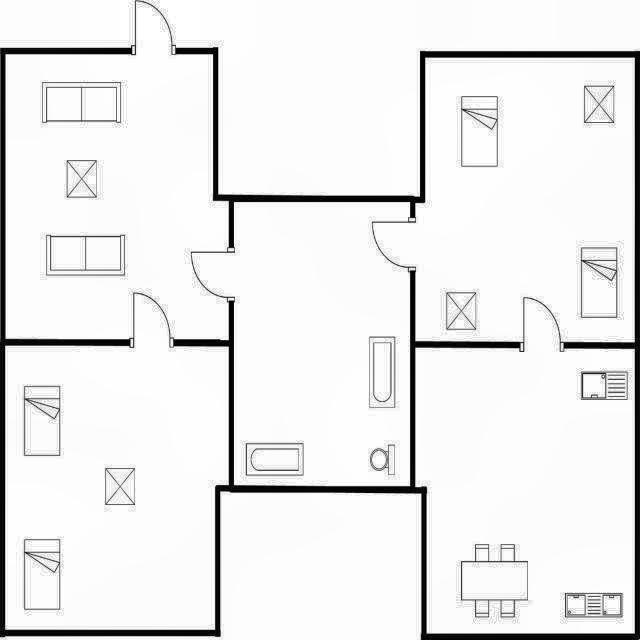room: (5, 54, 229, 340), (5, 346, 229, 630), (415, 347, 635, 634), (415, 58, 635, 343), (234, 202, 410, 486)
